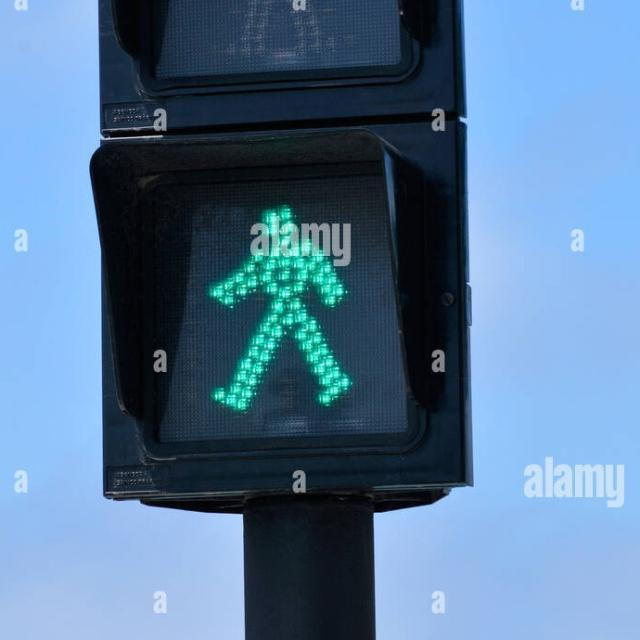green_light: (205, 181, 368, 430)
